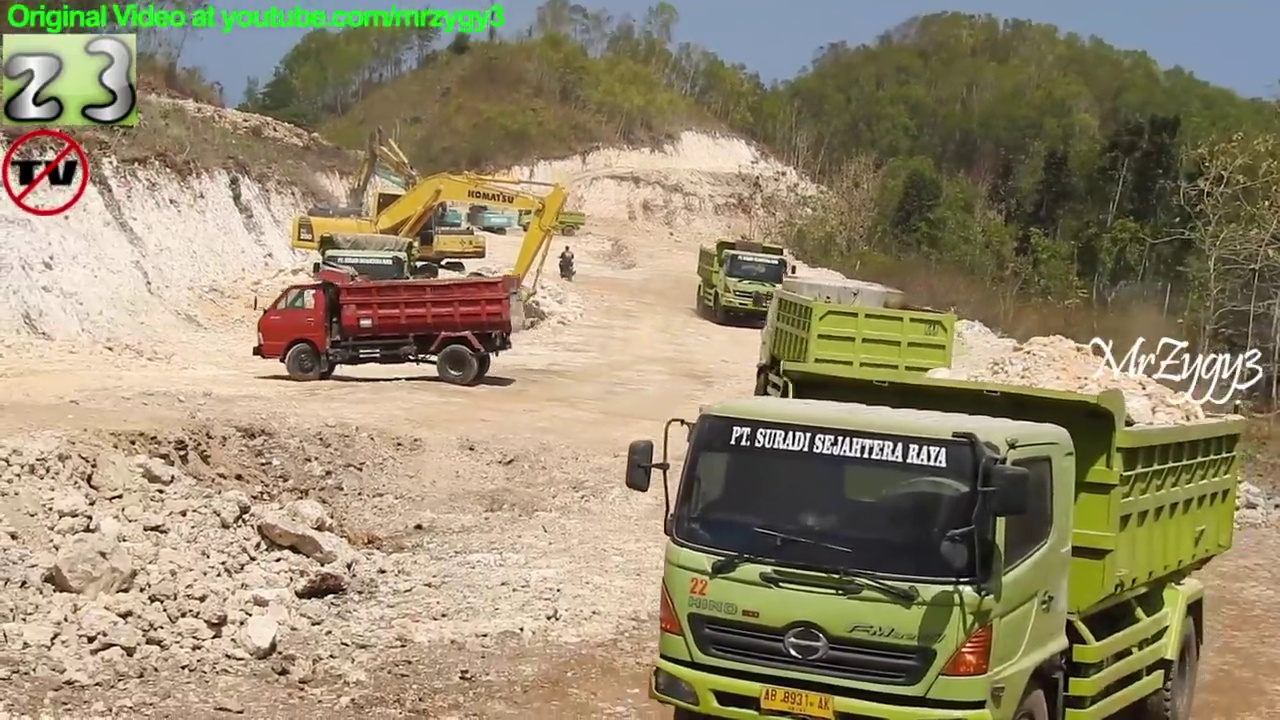excavator: (289, 167, 568, 336), (334, 126, 492, 288), (354, 158, 475, 254), (467, 167, 513, 241)
truck: (623, 357, 1252, 720), (747, 269, 957, 451), (254, 265, 527, 385), (691, 231, 805, 331), (512, 196, 589, 237)
